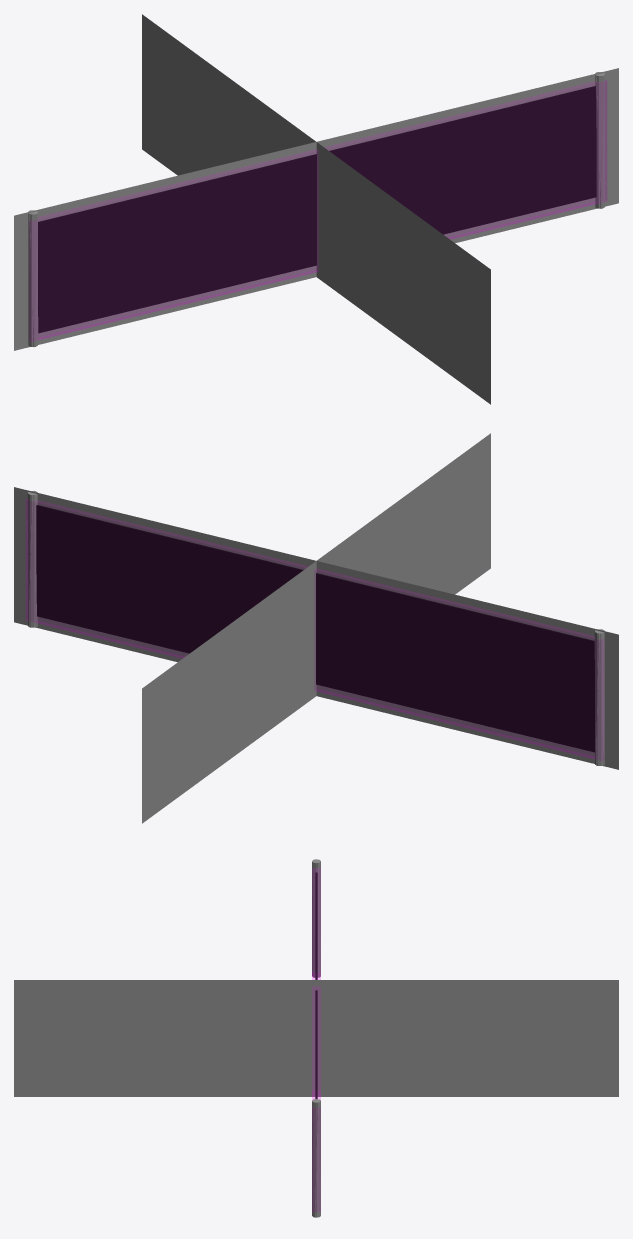
File: ribbon_yellow_5m.dae
3 views of the same model, one above another, from view 1: azimuth 30°, elevation 25°; view 2: azimuth 150°, elevation 25°; view 3: azimuth 270°, elevation 25° (orthographic). The views are drawn at different scales.
Visible parts, largest first — view 1: ribbon_yellow_5m_a800, ribbon_yellow_5m_a50, Colmesh_panel-1, ribbon_yellow_5m_a200; view 2: ribbon_yellow_5m_a800, ribbon_yellow_5m_a50, Colmesh_panel-1, ribbon_yellow_5m_a200; view 3: ribbon_yellow_5m_a50, Colmesh_panel-1, ribbon_yellow_5m_a800, ribbon_yellow_5m_a200.
Part boxes in pixels (bbox=[...]): ribbon_yellow_5m_a800: bbox=[28, 72, 604, 346]; ribbon_yellow_5m_a50: bbox=[14, 14, 618, 404]; Colmesh_panel-1: bbox=[29, 80, 606, 341]; ribbon_yellow_5m_a200: bbox=[28, 72, 605, 346]; ribbon_yellow_5m_a800: bbox=[28, 491, 604, 765]; ribbon_yellow_5m_a50: bbox=[14, 433, 618, 823]; Colmesh_panel-1: bbox=[26, 499, 603, 760]; ribbon_yellow_5m_a200: bbox=[27, 491, 604, 765]; ribbon_yellow_5m_a50: bbox=[14, 980, 618, 1096]; Colmesh_panel-1: bbox=[312, 868, 320, 1211]; ribbon_yellow_5m_a800: bbox=[312, 859, 320, 1217]; ribbon_yellow_5m_a200: bbox=[312, 861, 320, 1217].
Bounding box in the file's own units: 5.25 × 5.25 × 1.12.
3 materials, 1 textured.
